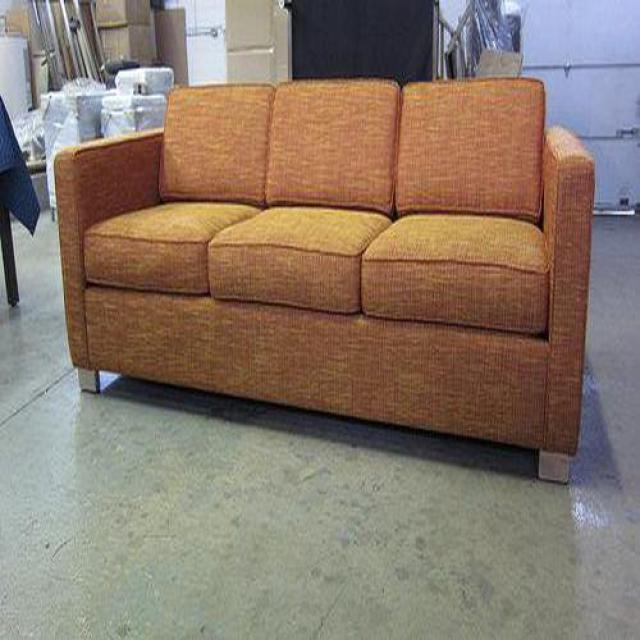sofa: (50, 78, 595, 461)
